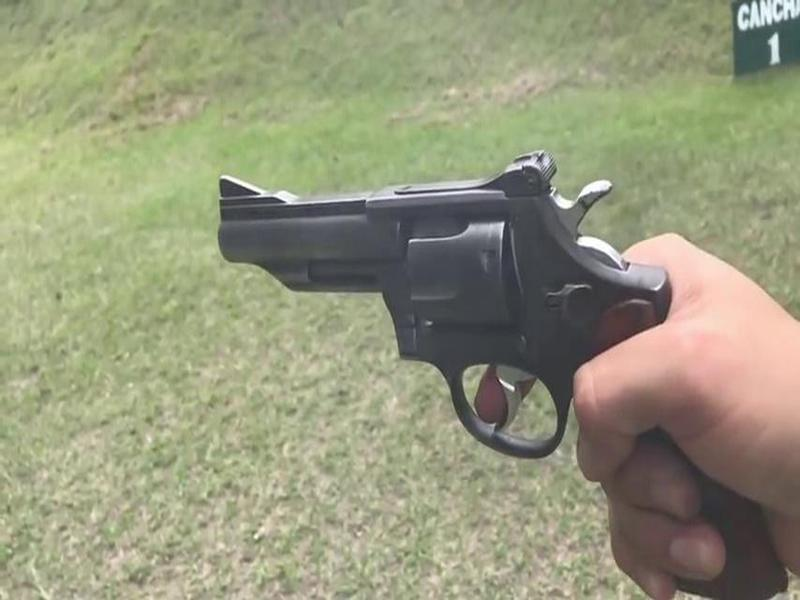Revolver: (217, 146, 682, 474)
